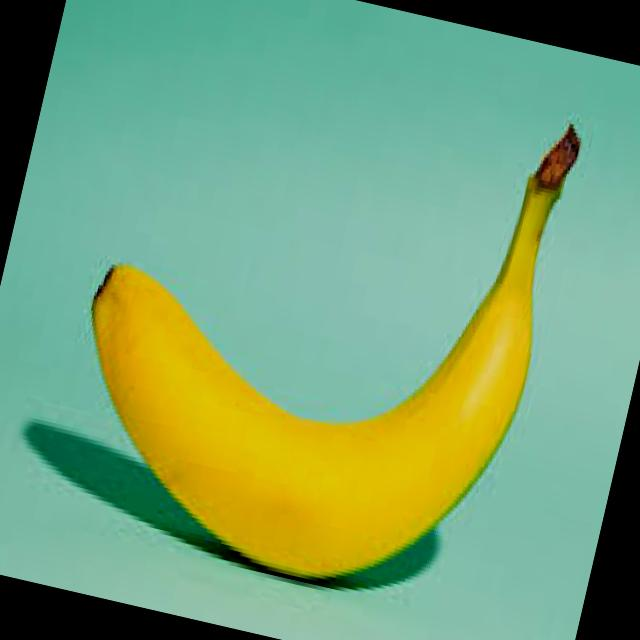banana: (30, 16, 588, 621)
